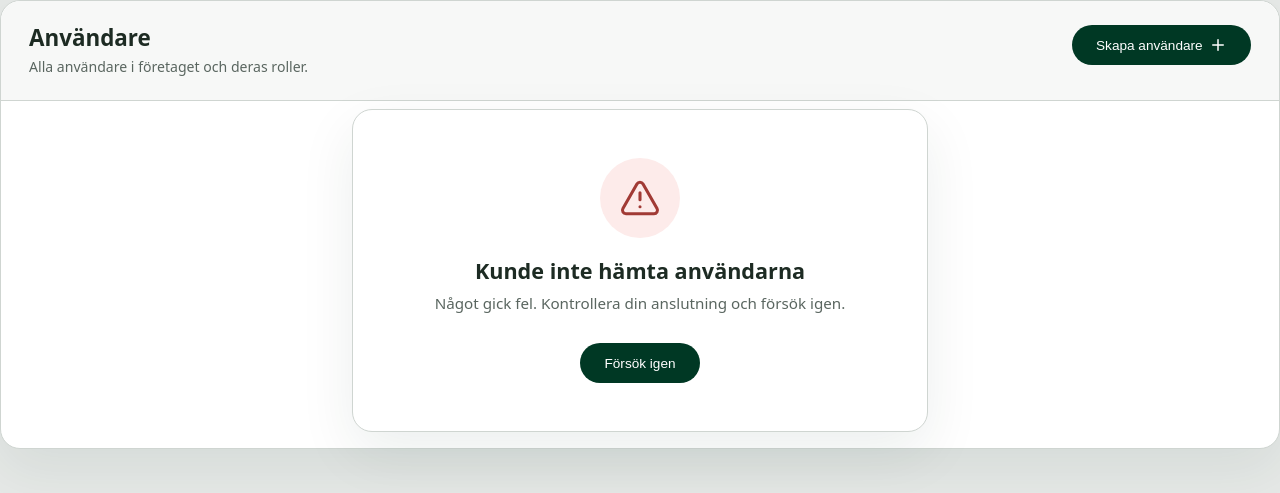
Test: UserList › shows an error with a retry button when the fetch fails
expect the heading "Kunde inte hämta användarna" is shown: met, box [475,258,805,284]
Click the button "Försök igen": (640, 363) [580,343,700,383]
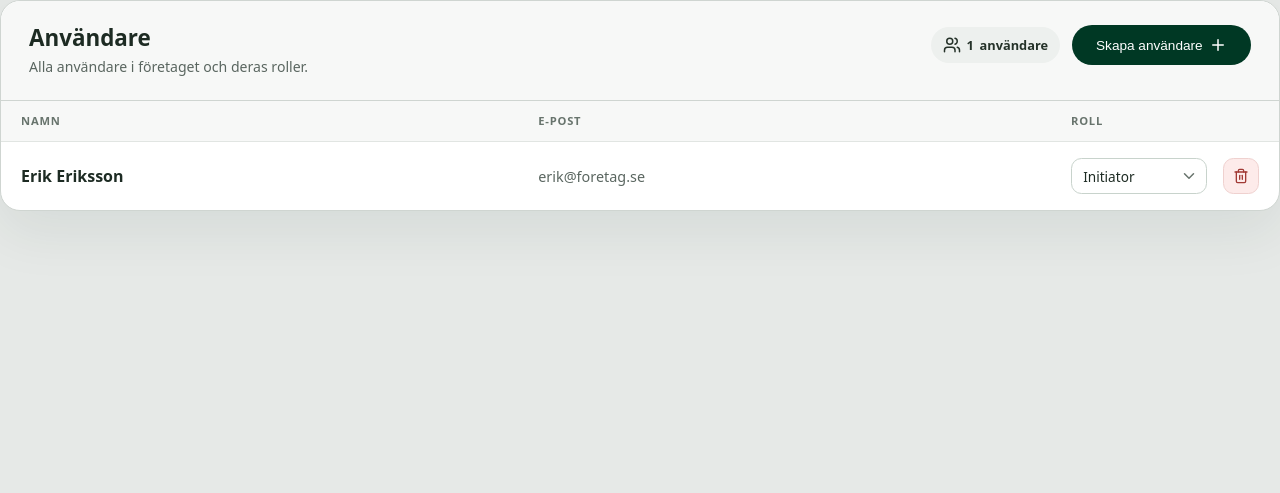
expect the text "Erik Eriksson" is shown: met, box [1,142,518,210]
